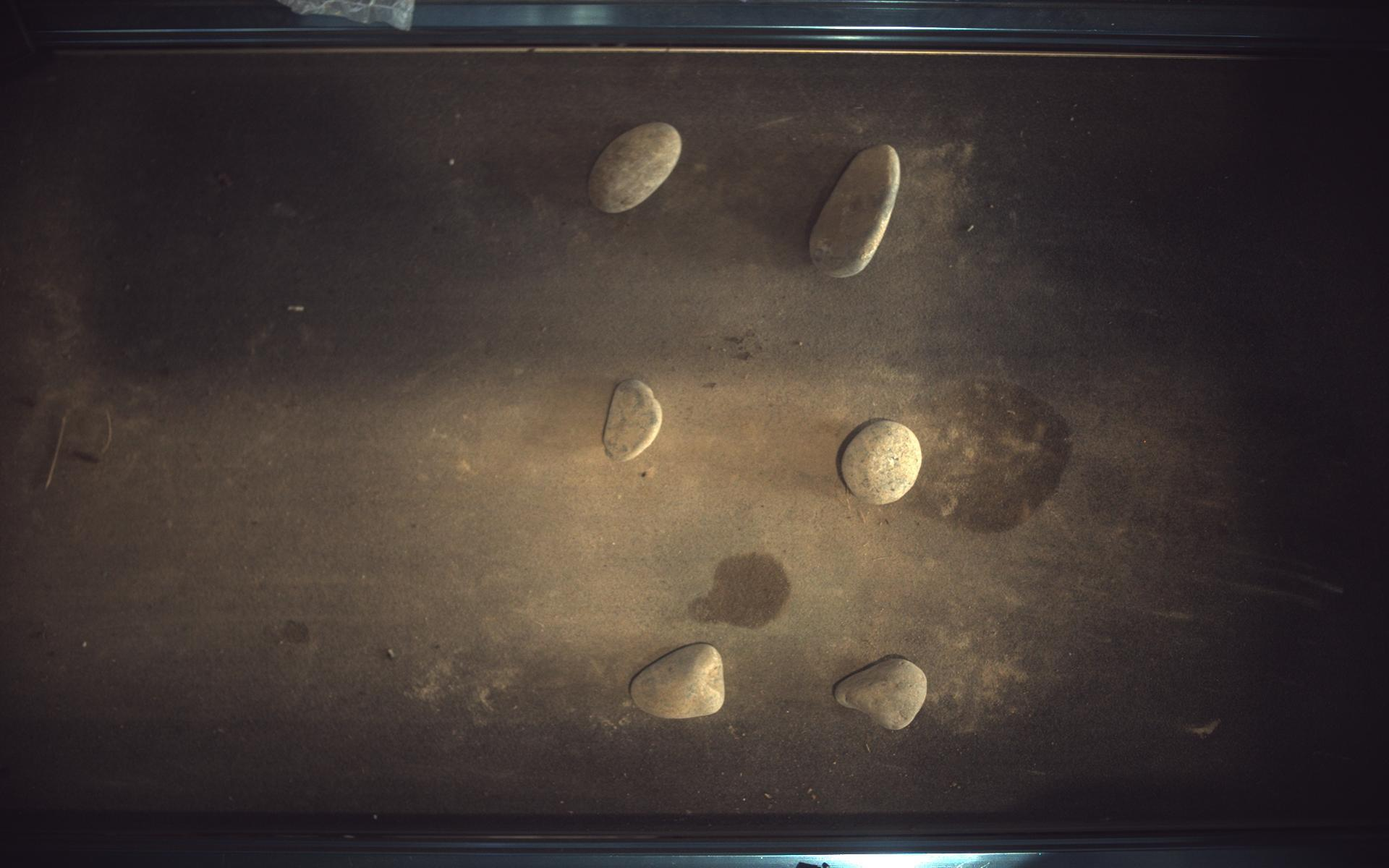stone: (811, 143, 902, 277), (590, 121, 683, 212), (631, 644, 725, 720), (843, 420, 924, 505), (836, 658, 928, 731), (603, 379, 663, 461)
